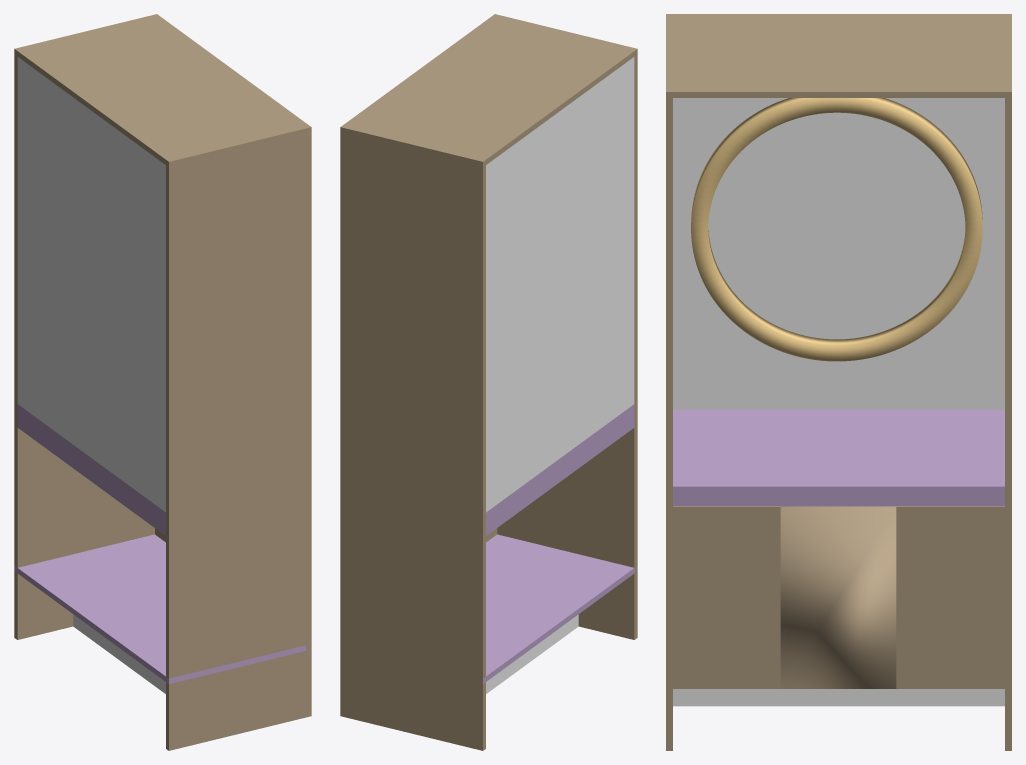
File: furniture.glb
3 views of the same model, side by side, from view 1: azimuth 30°, elevation 25°; view 2: azimuth 150°, elevation 25°; view 3: azimuth 270°, elevation 25° (orthographic). The views are drawn at different scales.
Visible parts, largest first — view 1: FURNITURE006, FURNITURE008, FURNITURE009, FURNITURE003, FURNITURE004, FURNITURE010; view 2: FURNITURE006, FURNITURE008, FURNITURE009, FURNITURE003, FURNITURE004, FURNITURE010; view 3: FURNITURE008, FURNITURE006, FURNITURE010, FURNITURE001, FURNITURE011, FURNITURE007, FURNITURE005, FURNITURE004, FURNITURE003.
Part boxes in pixels (left/top/right/bottom): FURNITURE006: left=14, top=14, right=311, bottom=750; FURNITURE008: left=17, top=57, right=165, bottom=512; FURNITURE009: left=14, top=534, right=306, bottom=684; FURNITURE003: left=17, top=410, right=165, bottom=535; FURNITURE004: left=73, top=614, right=165, bottom=693; FURNITURE010: left=17, top=404, right=165, bottom=517; FURNITURE006: left=340, top=14, right=637, bottom=750; FURNITURE008: left=486, top=57, right=634, bottom=512; FURNITURE009: left=483, top=534, right=637, bottom=683; FURNITURE003: left=486, top=410, right=634, bottom=535; FURNITURE004: left=486, top=614, right=578, bottom=693; FURNITURE010: left=486, top=404, right=634, bottom=517; FURNITURE008: left=673, top=98, right=1004, bottom=409; FURNITURE006: left=666, top=14, right=1011, bottom=750; FURNITURE010: left=673, top=409, right=1004, bottom=498; FURNITURE001: left=780, top=506, right=896, bottom=688; FURNITURE011: left=896, top=506, right=1004, bottom=688; FURNITURE007: left=673, top=506, right=780, bottom=688; FURNITURE005: left=691, top=98, right=982, bottom=361; FURNITURE004: left=673, top=689, right=1004, bottom=706; FURNITURE003: left=673, top=499, right=1004, bottom=506.
Size of the model in its own units: 0.537 by 2.12 by 1.01.
